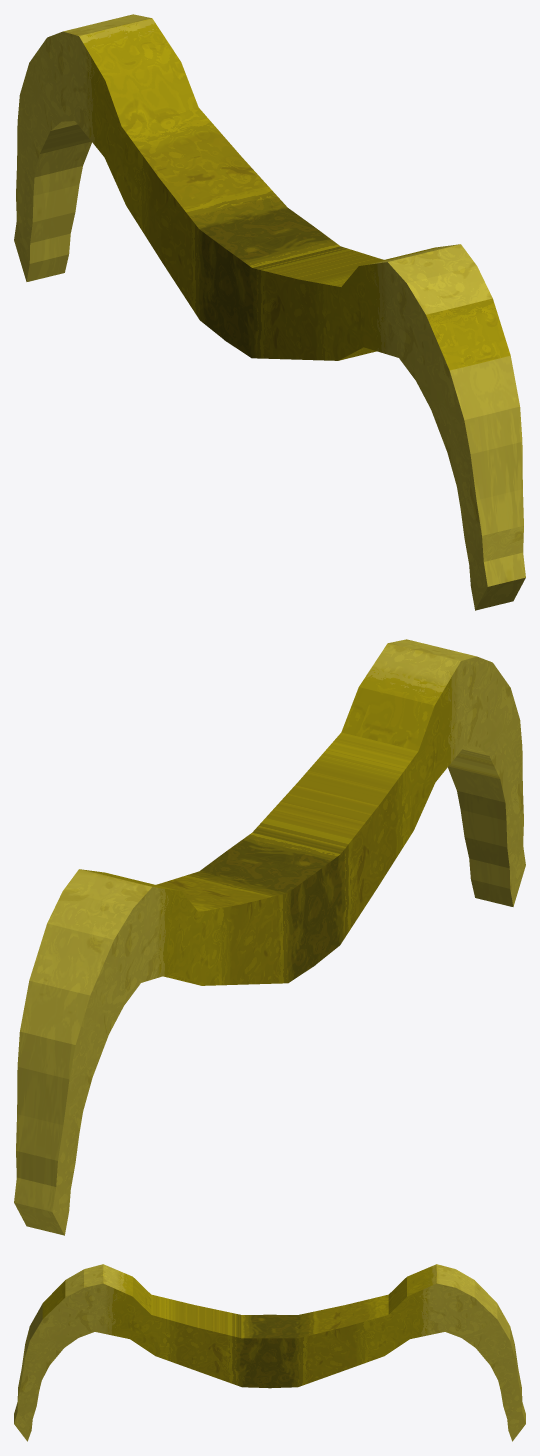
The model's file is weight_balancer.fbx.
3 renders of one model, top to bottom at view 1: azimuth 30°, elevation 25°; view 2: azimuth 150°, elevation 25°; view 3: azimuth 270°, elevation 25°, orthographic. The views are drawn at different scales.
Visible parts, largest first — view 1: Cube.009; view 2: Cube.009; view 3: Cube.009.
Boxes of the visible parts, <box> form: Cube.009: <box>14,14,525,610</box>; Cube.009: <box>14,639,525,1235</box>; Cube.009: <box>14,1264,525,1441</box>.
Size of the model in its own units: 108 by 351 by 998.
